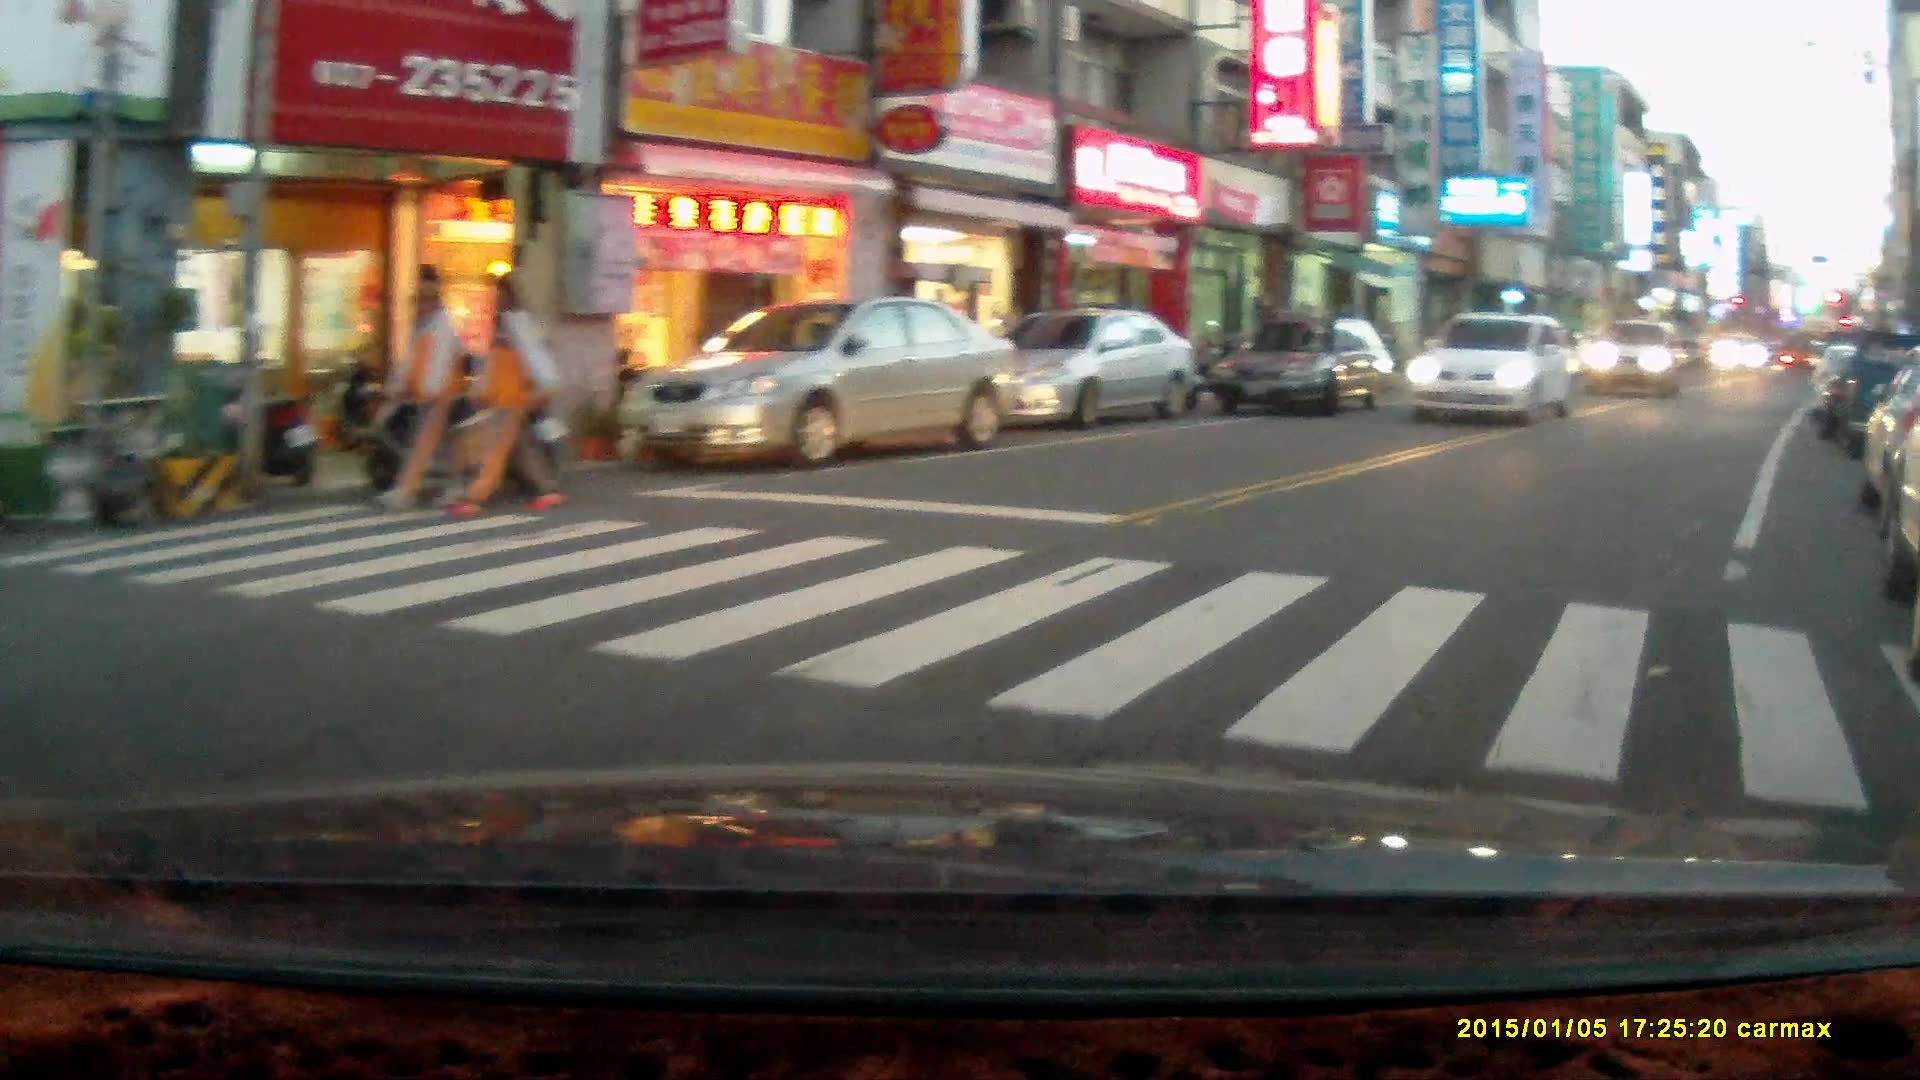pedestrian: (458, 270, 562, 519), (377, 262, 470, 511)
vehicle: (620, 298, 1016, 465), (961, 309, 1198, 427), (1402, 311, 1575, 427), (1210, 319, 1397, 417), (1578, 315, 1694, 399), (1711, 333, 1773, 378)
